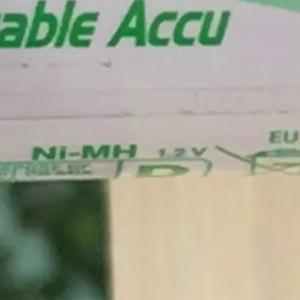keyword: (23, 135, 146, 169)
